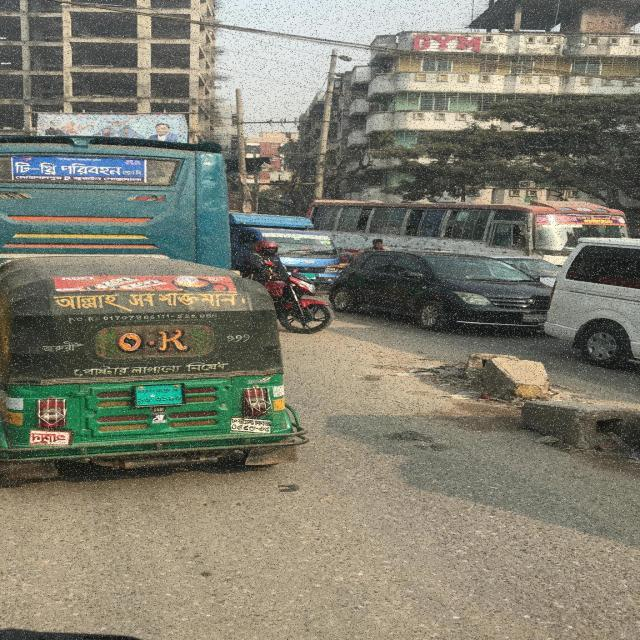numberplate: (133, 383, 183, 407), (29, 428, 72, 446), (230, 416, 273, 434)
